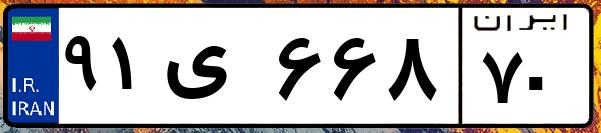0: (525, 38, 570, 115)
1: (110, 28, 158, 98)
6: (270, 28, 330, 110), (330, 28, 385, 110)
7: (475, 38, 525, 113)
8: (385, 28, 445, 110)
9: (57, 26, 110, 100)
ی: (158, 20, 270, 120)
